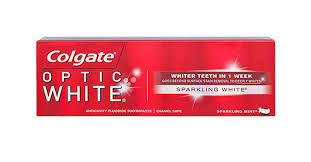colgate-medium: (34, 37, 275, 117)
